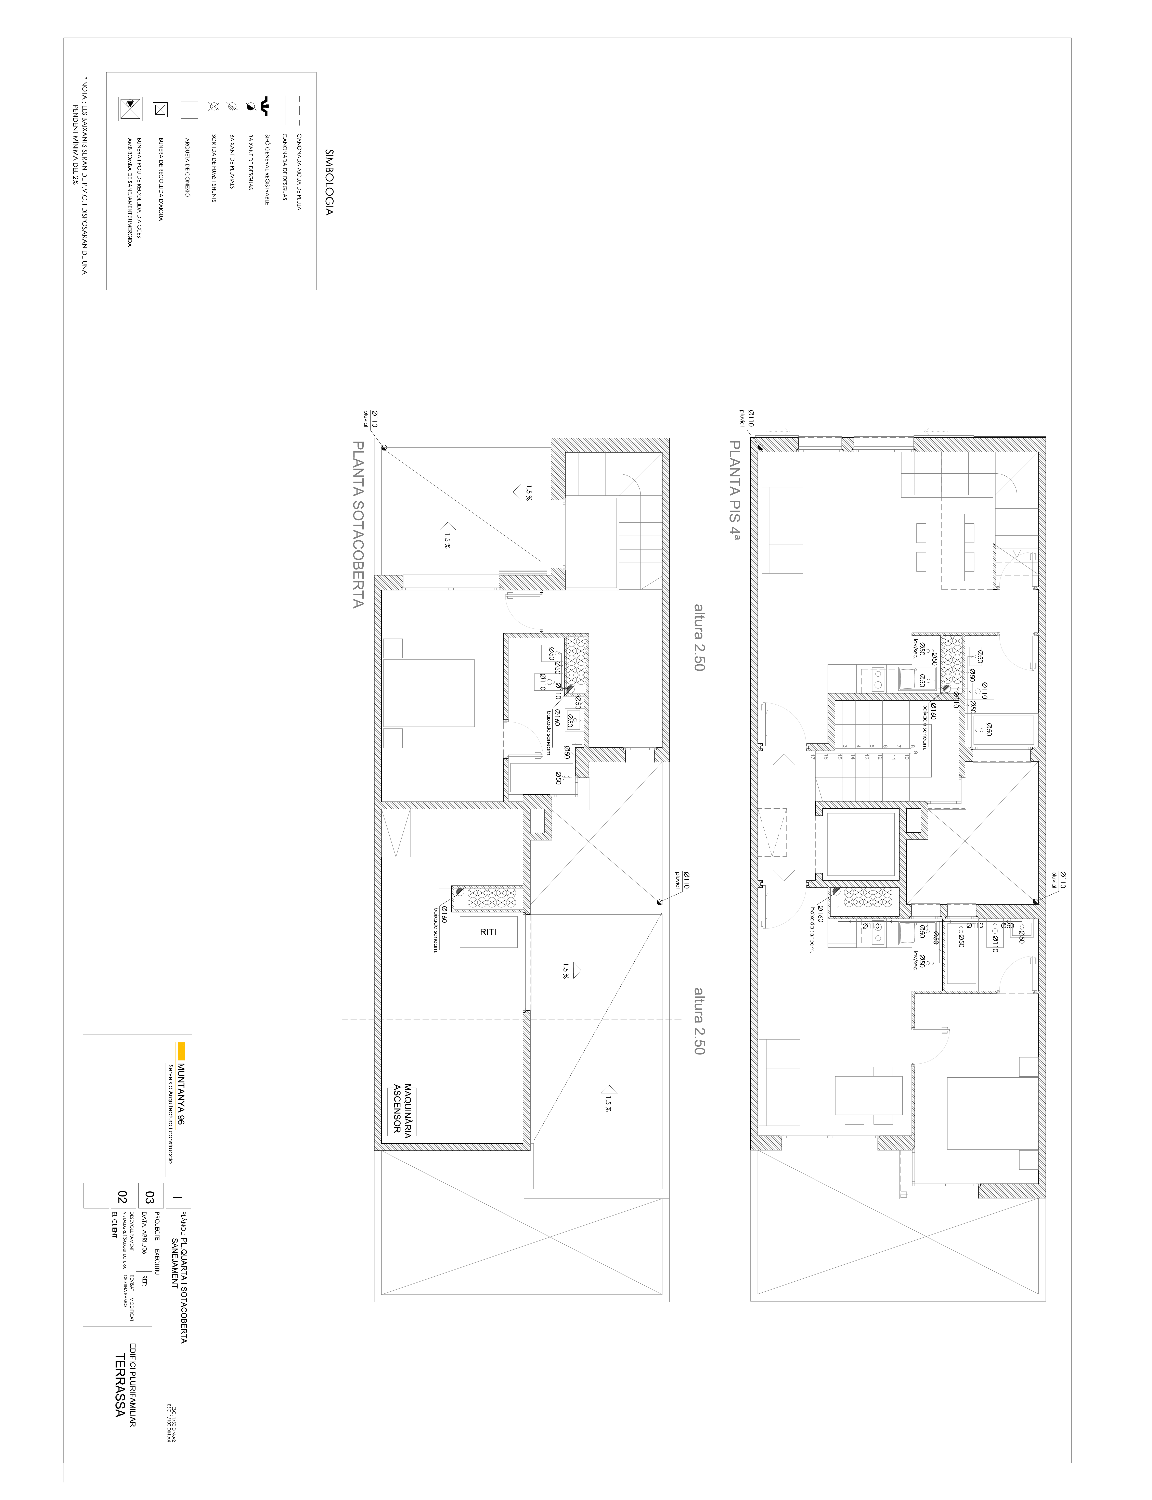door: (996, 954, 1037, 994)
